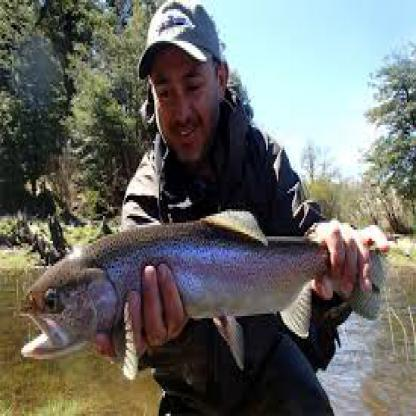fish: (17, 208, 390, 372)
